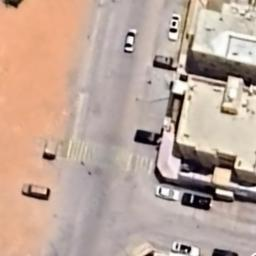SUV: (152, 54, 178, 69)
pickup: (181, 192, 212, 210)
sedan: (172, 241, 202, 256), (123, 28, 138, 53), (168, 13, 181, 41), (156, 187, 180, 200)
unknown: (134, 128, 162, 146), (212, 249, 240, 256)
van: (21, 184, 51, 199)
